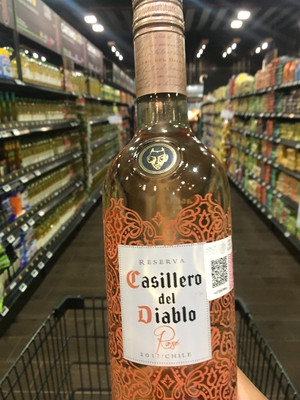casillero del diablo rose: (91, 1, 257, 400)
